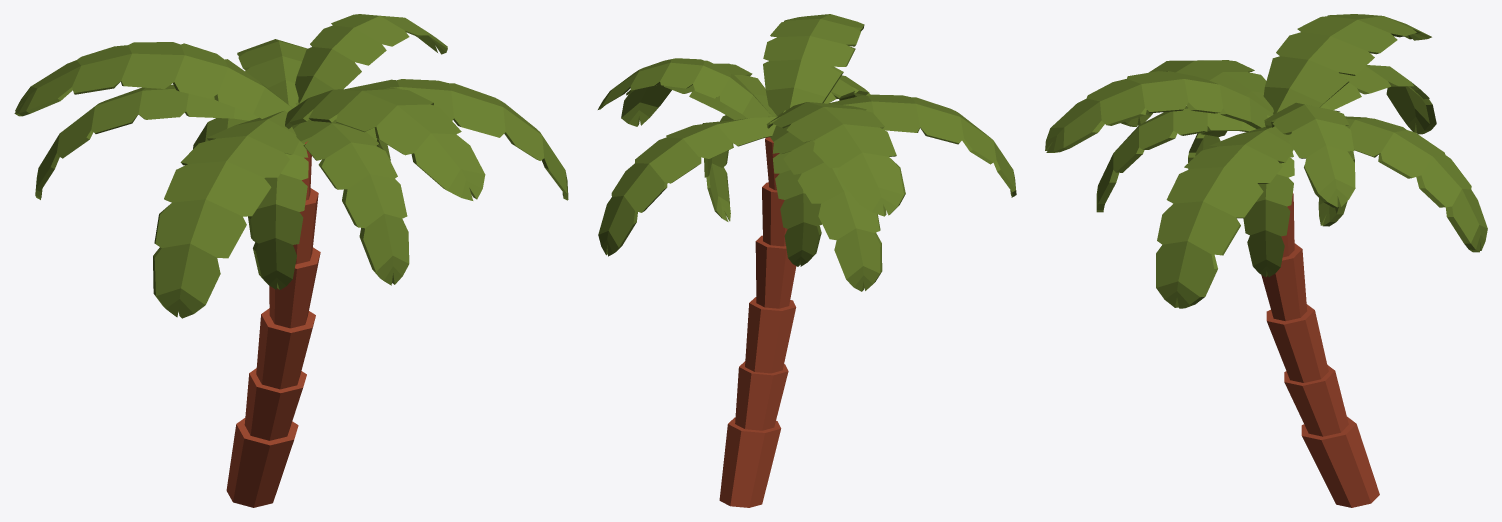
Rendered from palm.glb.
3 views of the same model, side by side, from view 1: azimuth 30°, elevation 25°; view 2: azimuth 150°, elevation 25°; view 3: azimuth 270°, elevation 25° (orthographic). The views are drawn at different scales.
Parts seen in each view (by area): view 1: CoconutLeave1(Daun kelapa), Tree; view 2: CoconutLeave1(Daun kelapa), Tree; view 3: CoconutLeave1(Daun kelapa), Tree.
Boxes of the visible parts, <box> form: CoconutLeave1(Daun kelapa): <box>14,14,568,318</box>; Tree: <box>226,141,320,507</box>; CoconutLeave1(Daun kelapa): <box>598,14,1016,291</box>; Tree: <box>719,137,796,507</box>; CoconutLeave1(Daun kelapa): <box>1045,14,1487,308</box>; Tree: <box>1261,193,1379,507</box>.
Size of the model in its own units: 1270 by 1323 by 1240.
